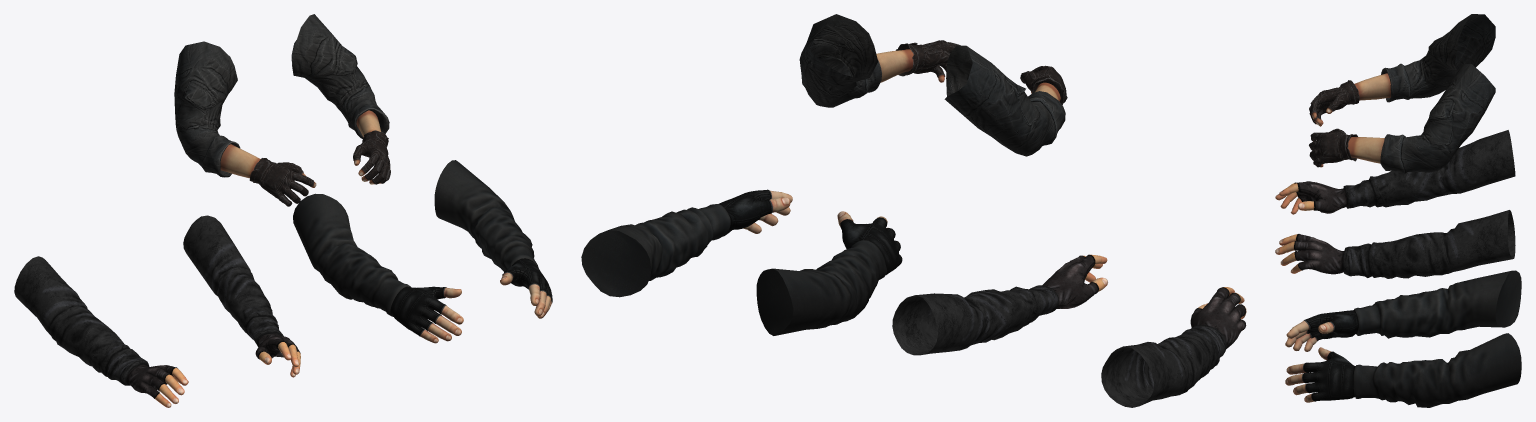
The model's file is Arms_Pack.dae.
3 views of the same model, side by side, from view 1: azimuth 30°, elevation 25°; view 2: azimuth 150°, elevation 25°; view 3: azimuth 270°, elevation 25° (orthographic). The views are drawn at different scales.
Visible parts, largest first — view 1: Arm01, Arm03, Arm02; view 2: Arm01, Arm02, Arm03; view 3: Arm01, Arm02, Arm03.
Boxes of the visible parts, <box> form: Arm01: <box>293,160,552,343</box>; Arm03: <box>174,14,390,206</box>; Arm02: <box>14,215,300,407</box>; Arm01: <box>581,189,902,335</box>; Arm02: <box>892,254,1246,407</box>; Arm03: <box>799,14,1067,156</box>; Arm01: <box>1285,270,1521,407</box>; Arm02: <box>1275,130,1515,278</box>; Arm03: <box>1309,14,1495,173</box>.
Size of the model in its own units: 1.34 by 0.6271 by 0.7526.
Materials: 4 (4 with a texture image).
